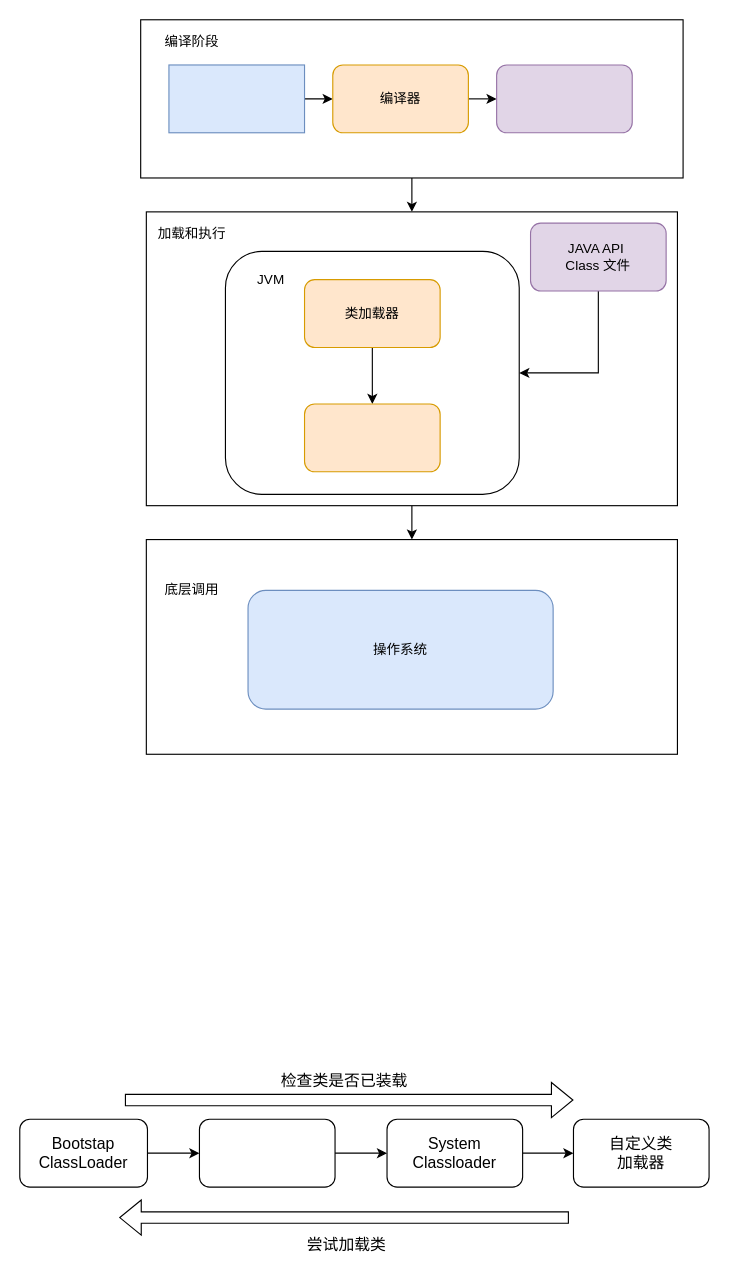
This 729x1274 diagram has some shape labels left out. Here are the shapes that lost their labels. From the top down, the centre of each, then its label:
At [236,98]: "Java 文件".
At [564,98]: "class 文件".
At [371,437]: "执行引擎".
At [266,1152]: "Extension Classloader".
